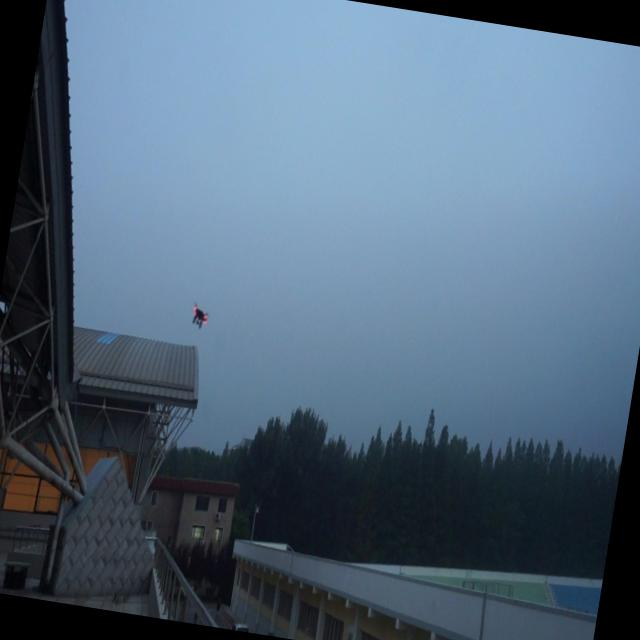drone: (188, 300, 212, 332)
